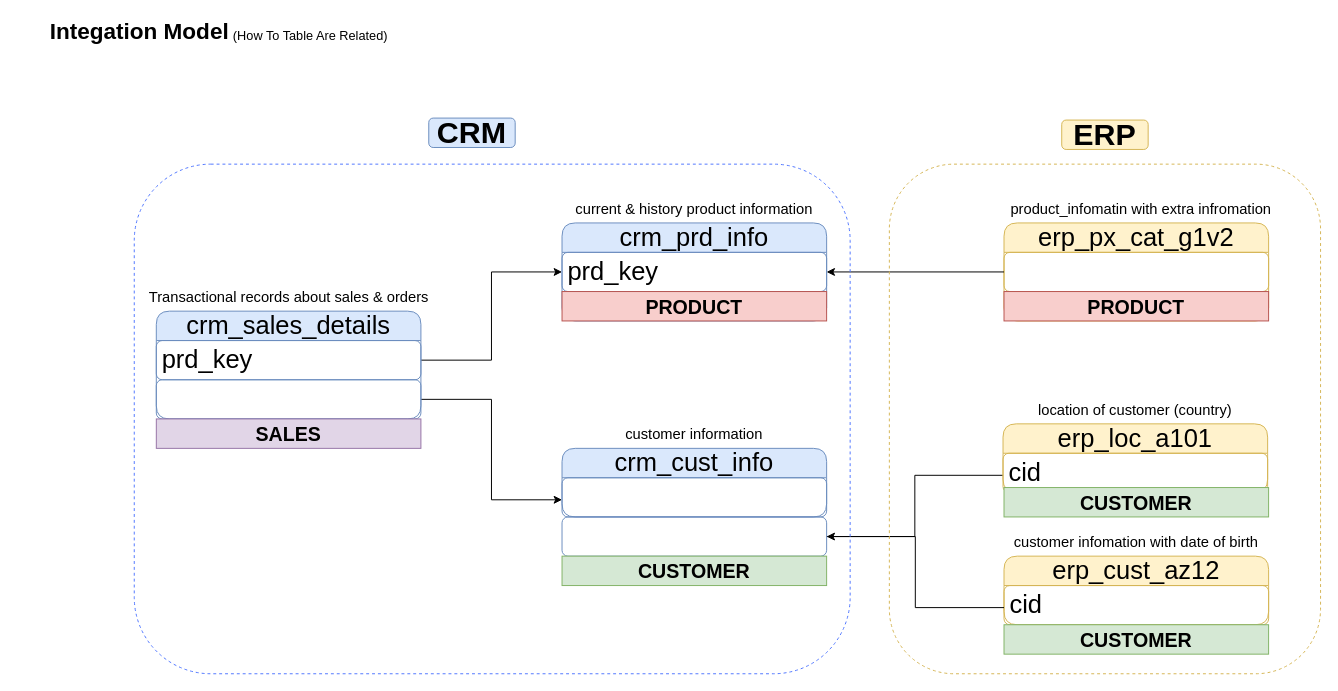
The diagram is 1338 pixels wide and 691 high, and some of its shapes have lost their labels. Here are the shapes that lost their labels. From the top down, the centre of each, then its label:
At pixel 1136 271: "id".
At pixel 288 399: "cust_id".
At pixel 694 497: "cst_id".
At pixel 694 536: "cst_key".
